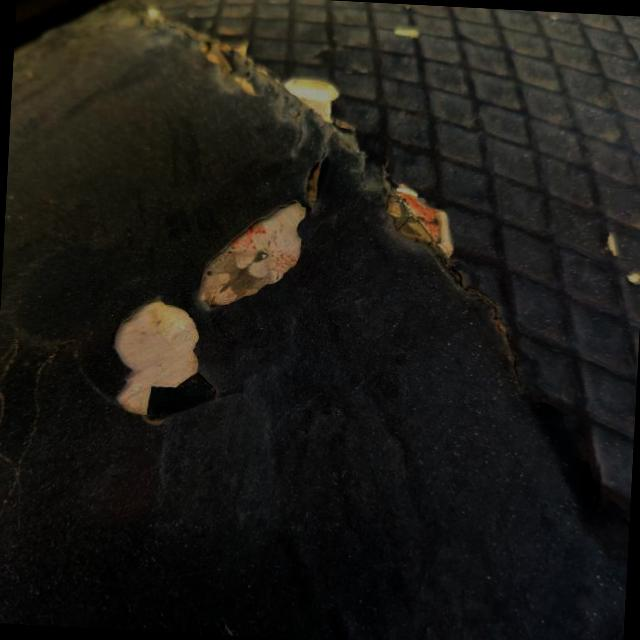paint-off: (74, 137, 348, 462), (361, 162, 484, 286), (266, 60, 370, 138)
